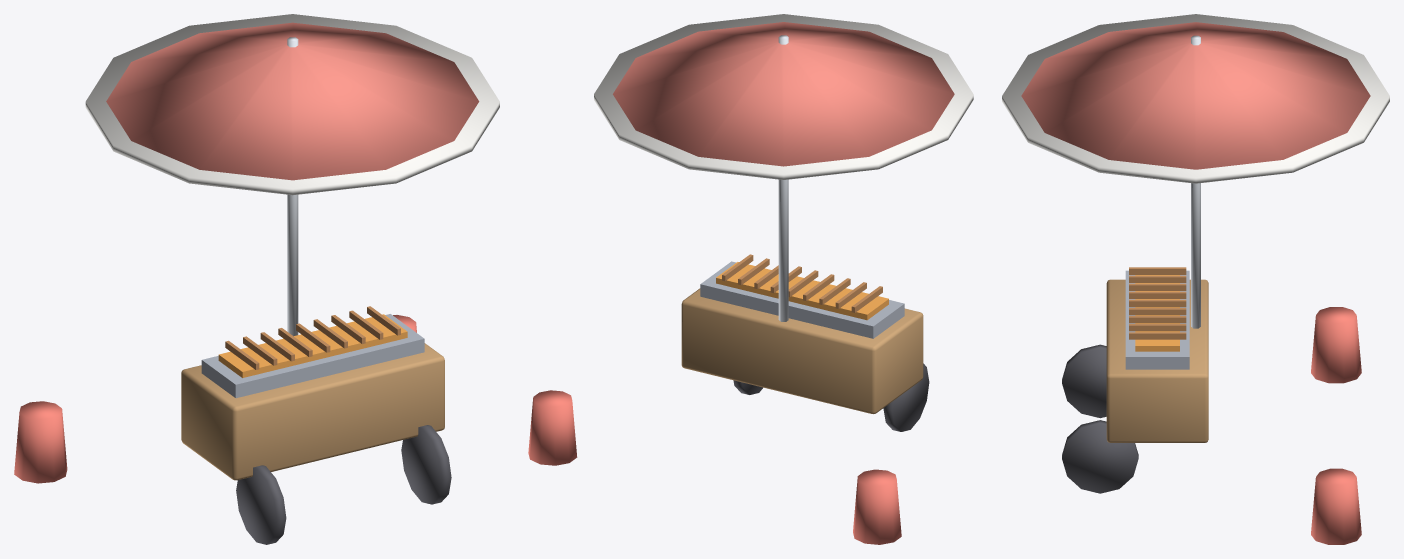
The model's file is Prop_SatayCart.fbx.
3 views of the same model, side by side, from view 1: azimuth 30°, elevation 25°; view 2: azimuth 150°, elevation 25°; view 3: azimuth 270°, elevation 25° (orthographic). The views are drawn at different scales.
Visible parts, largest first — view 1: Prop_SatayCart; view 2: Prop_SatayCart; view 3: Prop_SatayCart.
Boxes of the visible parts, <box> form: Prop_SatayCart: <box>14,14,499,544</box>; Prop_SatayCart: <box>528,14,973,544</box>; Prop_SatayCart: <box>1002,14,1389,544</box>.
Bounding box in the file's own units: 3.38 × 3.6 × 3.04.
